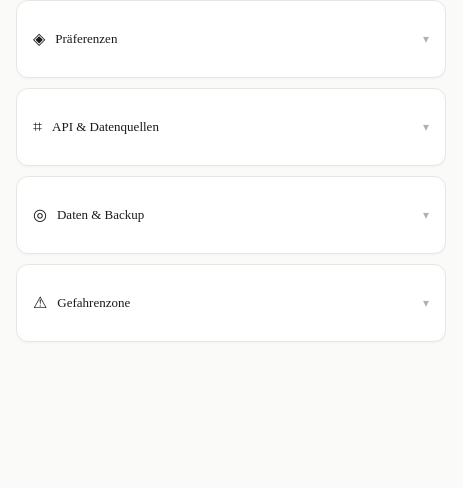
Scenario: EinstellungenTab › Gefahrenzone öffnet, Buttons vorhanden, Lösch-Dialog bleibt zunächst zu
The image size is (463, 488).
Click the text "Gefahrenzone" at (94, 303), box x1=57 y1=293 x2=130 y2=313
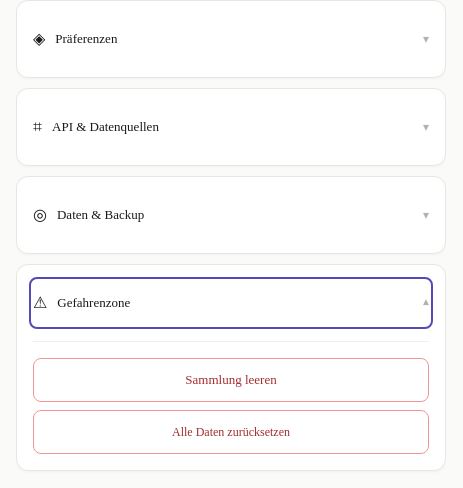
Now the button "Sammlung leeren" is shown, box x1=33 y1=358 x2=429 y2=402
Now the button "Alle Daten zurücksetzen" is shown, box x1=33 y1=410 x2=429 y2=454
